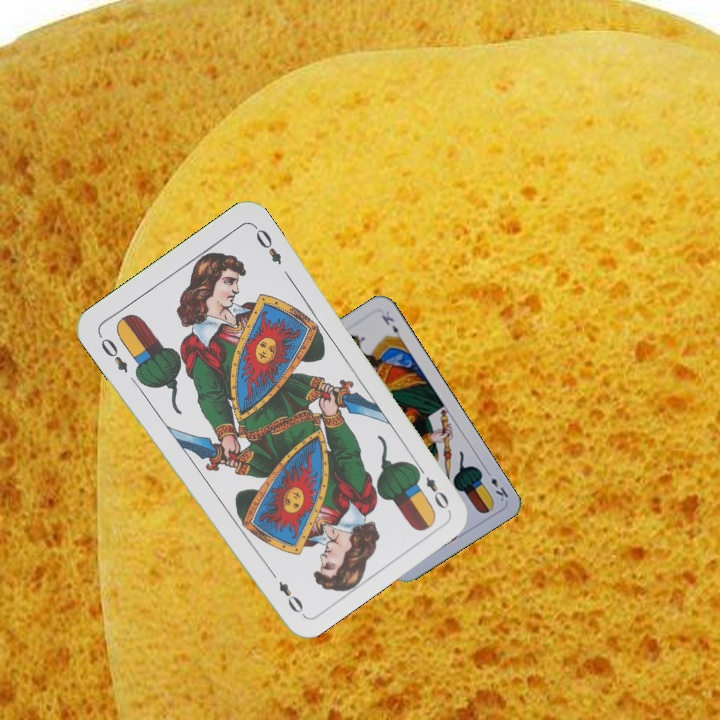EK: (482, 466, 511, 504)
EO: (411, 460, 452, 512), (94, 330, 131, 376)
